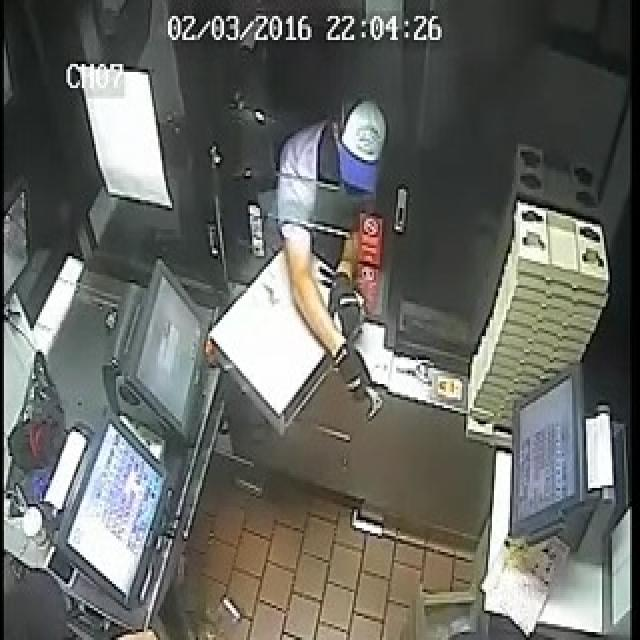thief: (291, 111, 400, 315)
